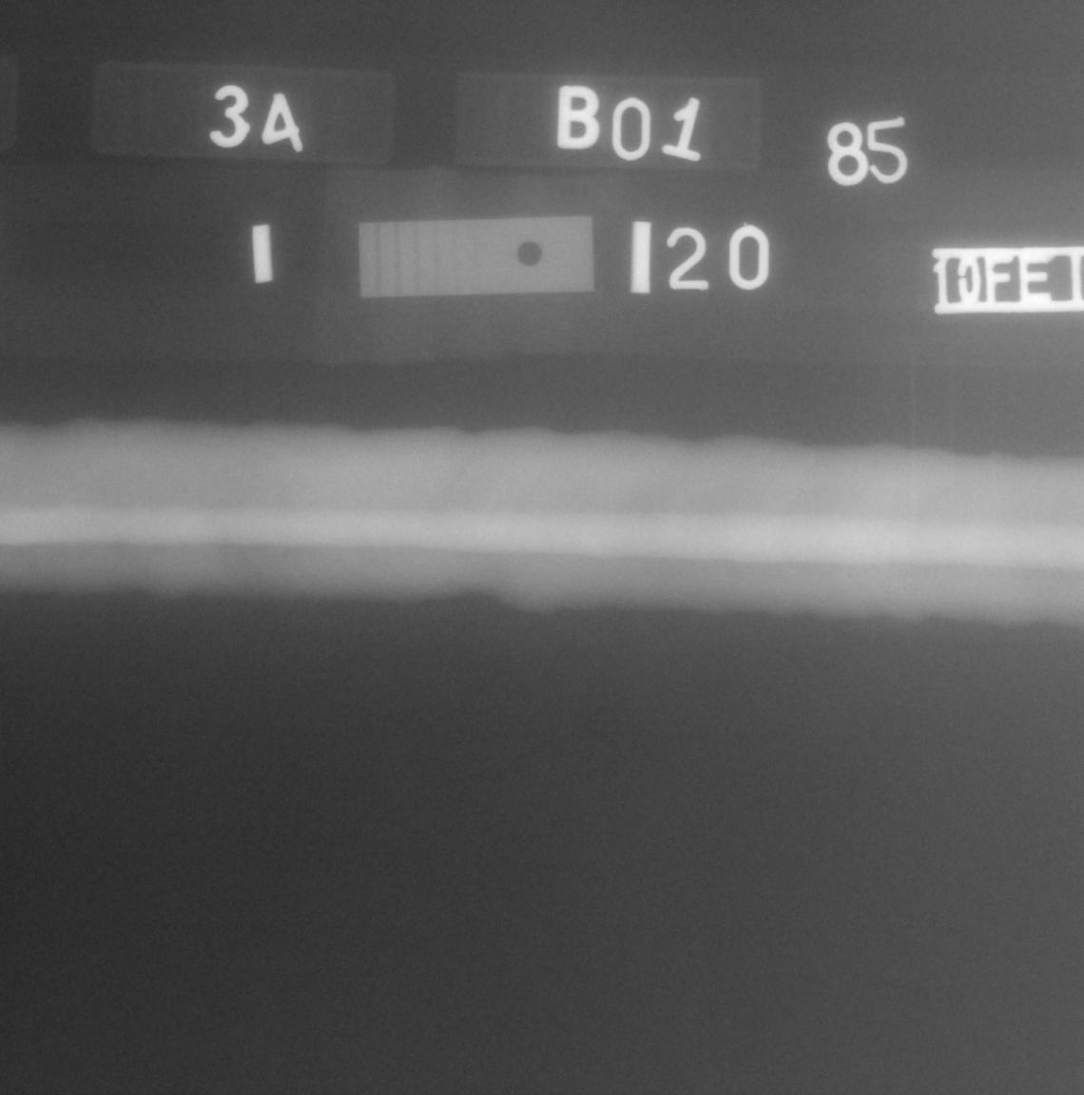Reference Standard 1: (359, 217, 594, 298)
